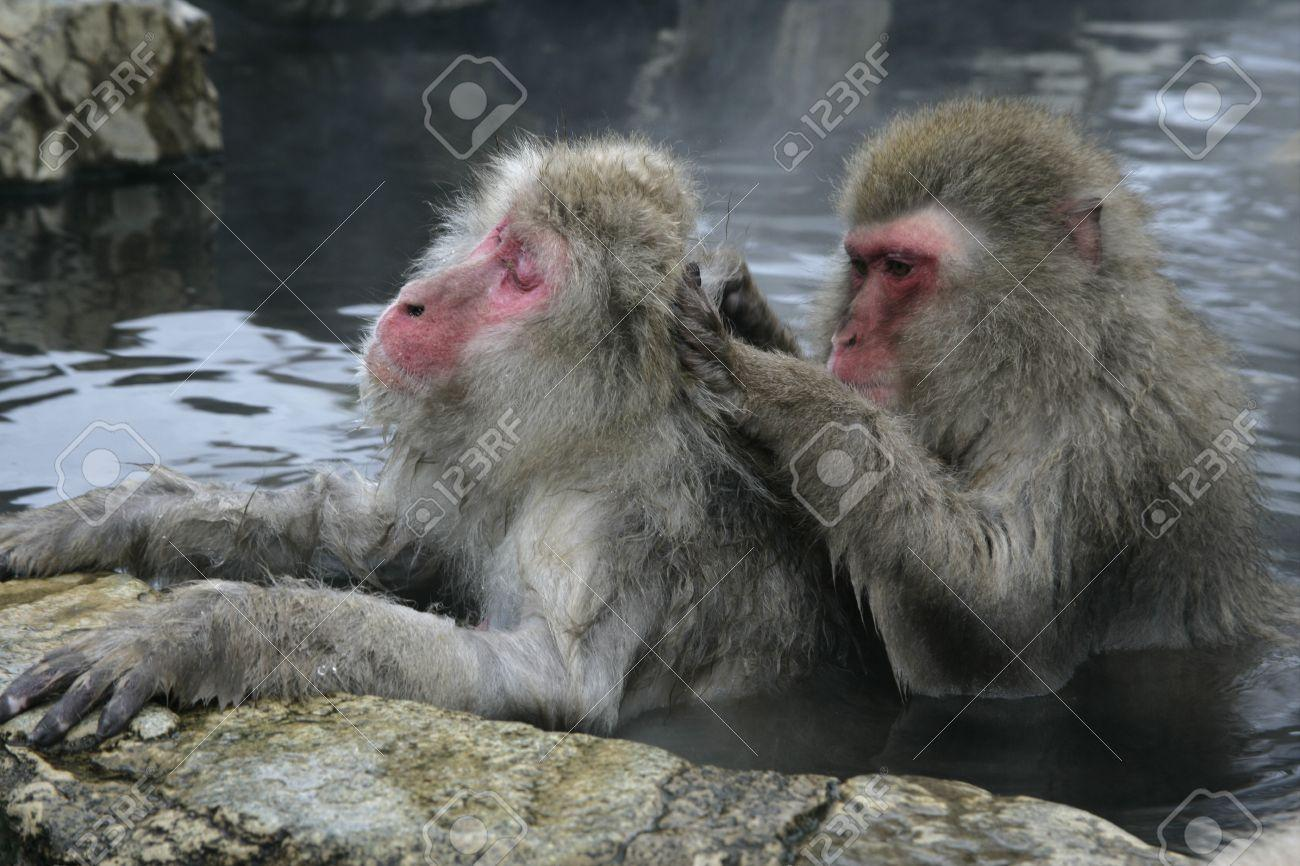monkey: (0, 133, 890, 751)
